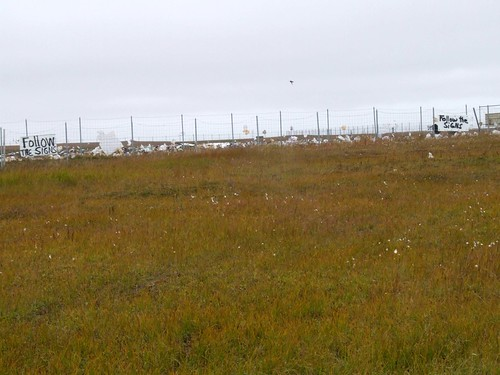grass: (1, 141, 493, 375)
sign: (19, 133, 62, 163), (432, 113, 473, 138)
sky: (4, 1, 500, 131)
